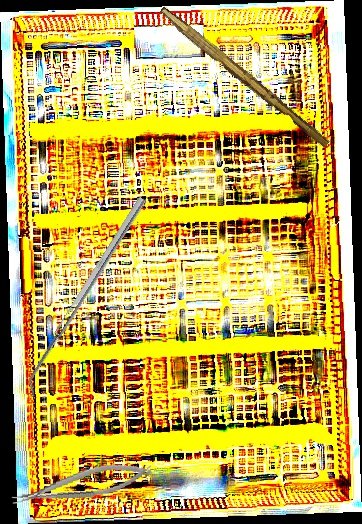Needle Holder: (8, 456, 156, 512)
Scalpel Handle: (155, 5, 333, 150)
Spatula Surgical: (19, 196, 154, 398)
